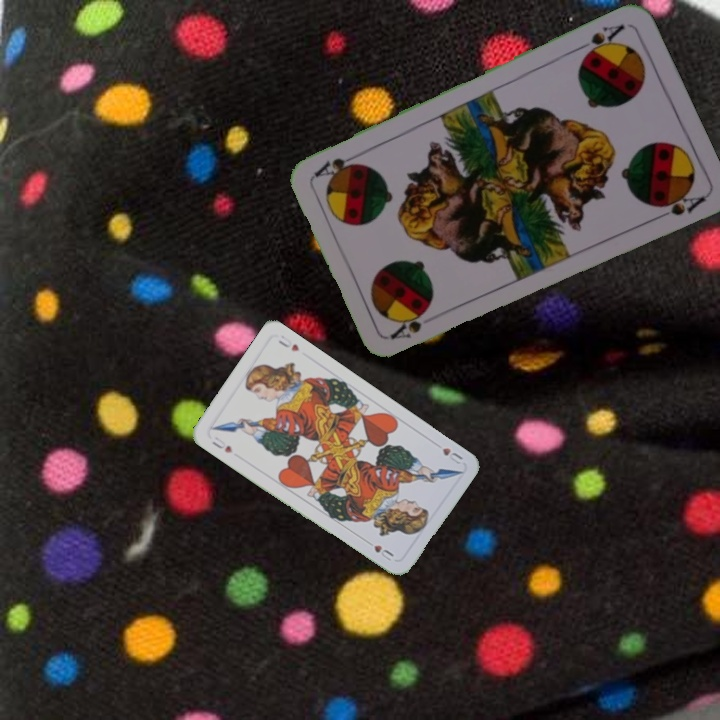HU: (208, 432, 235, 456), (438, 443, 465, 467)
SA: (573, 20, 627, 61), (387, 312, 424, 342)
